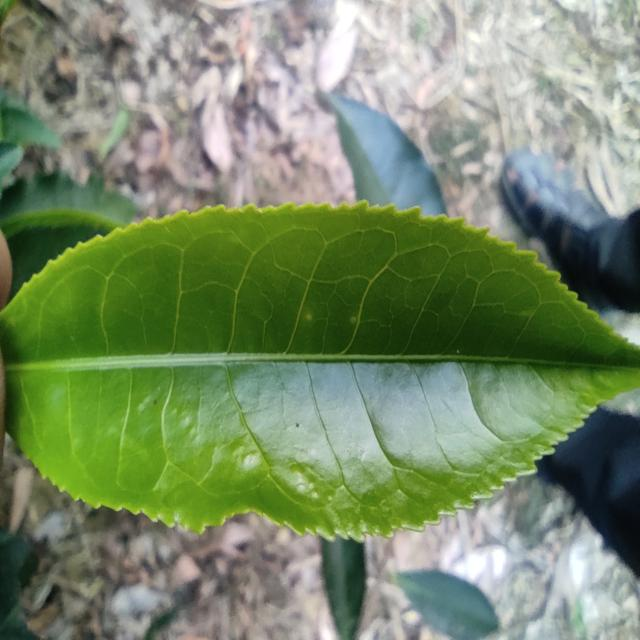Category C(4-7 days): (1, 187, 640, 551)
